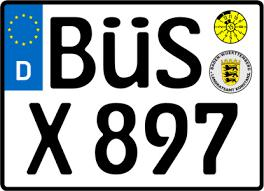7: (194, 100, 241, 177)
8: (93, 100, 138, 177)
9: (143, 101, 189, 178)
B: (47, 14, 97, 91)
S: (155, 15, 203, 91)
X: (23, 100, 75, 176)
ue: (99, 13, 152, 92)
